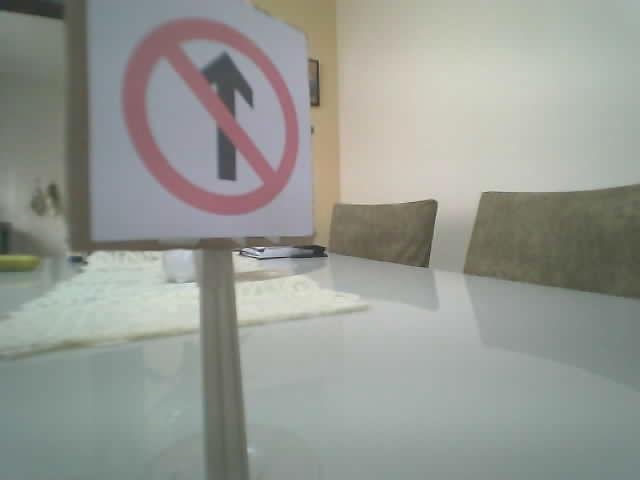R-3_sentido-proibido: (121, 15, 297, 213)
